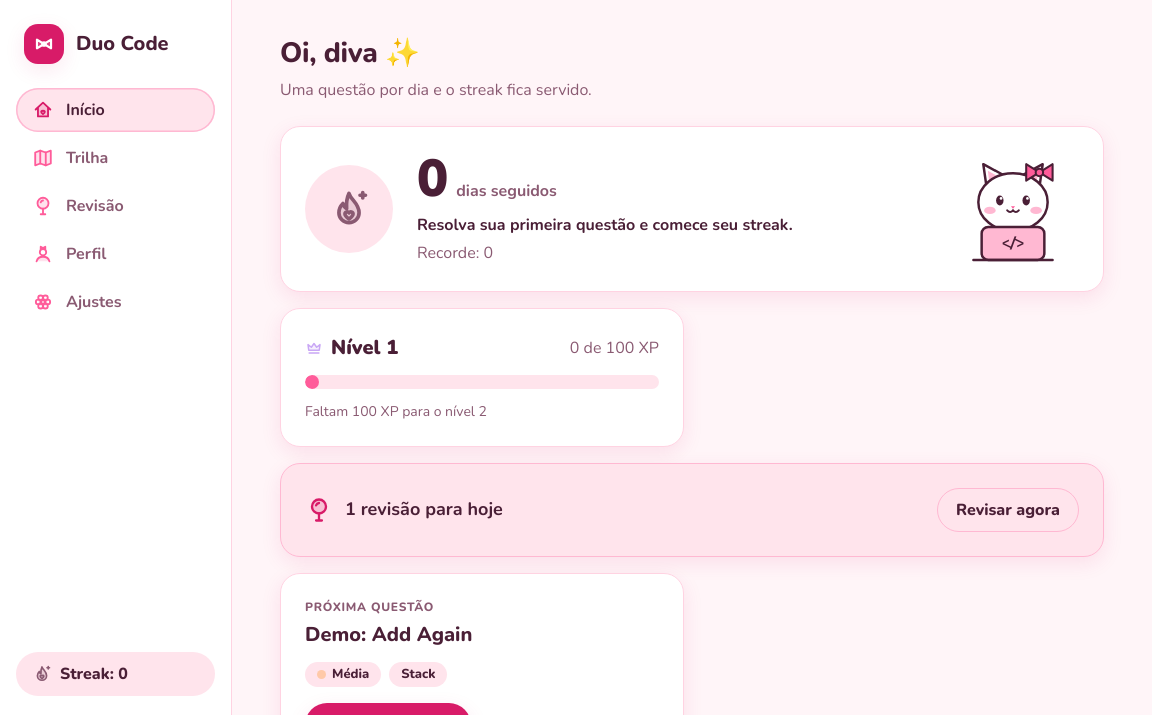
Test: fila de revisão (005 RF-2, RF-3) › vencida hoje aparece como 'vence hoje'
Click the link "Revisão".
click(78, 206)  # box [32,195,124,217]
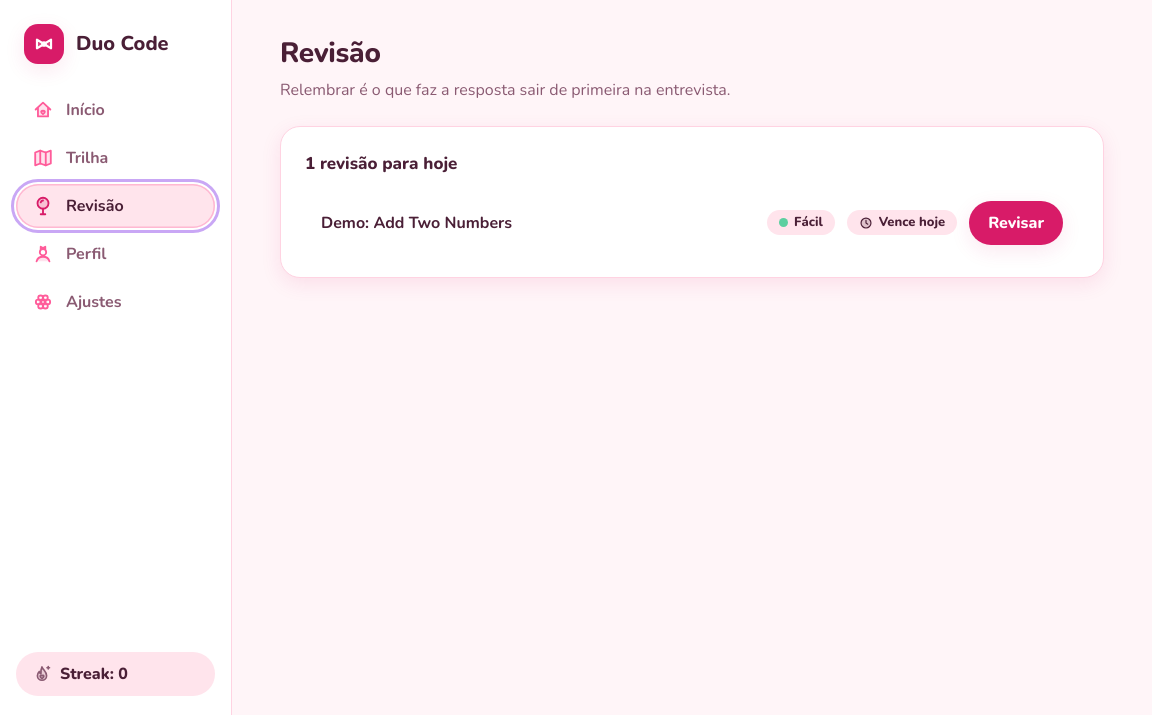
expect the text "Vence hoje" is shown: met, box [847,210,957,235]
